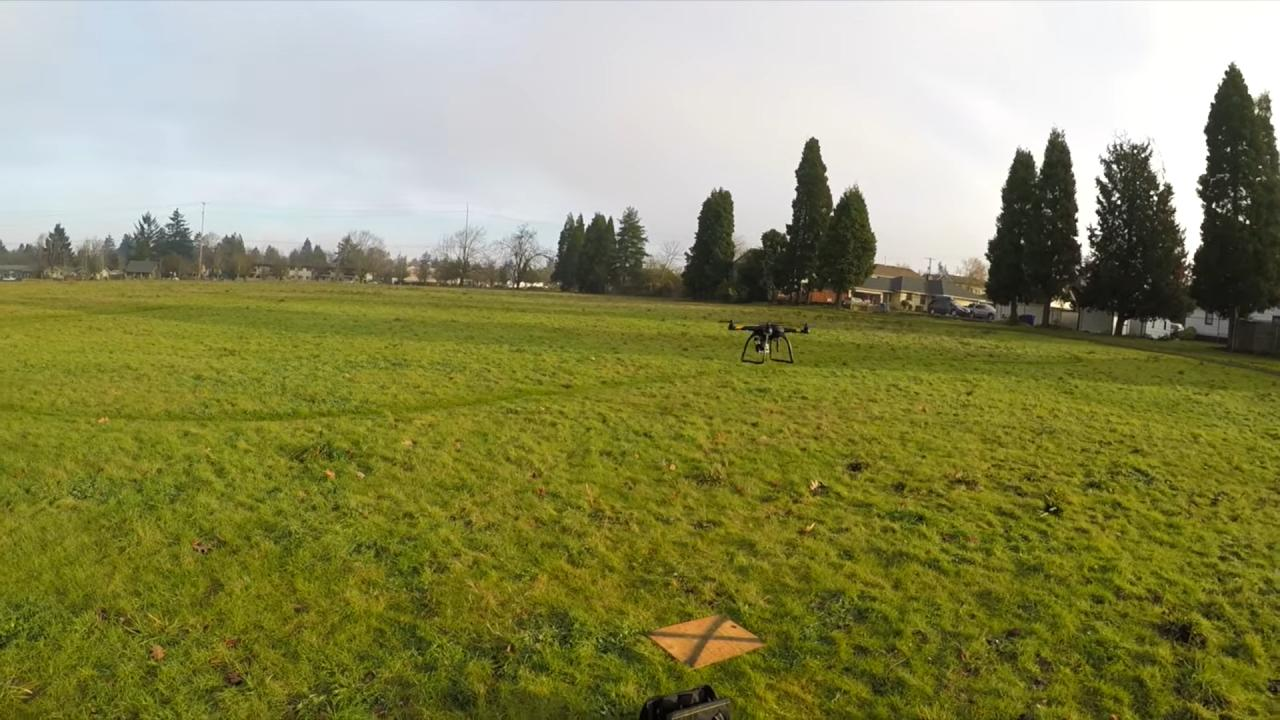Drone: (707, 311, 828, 373)
